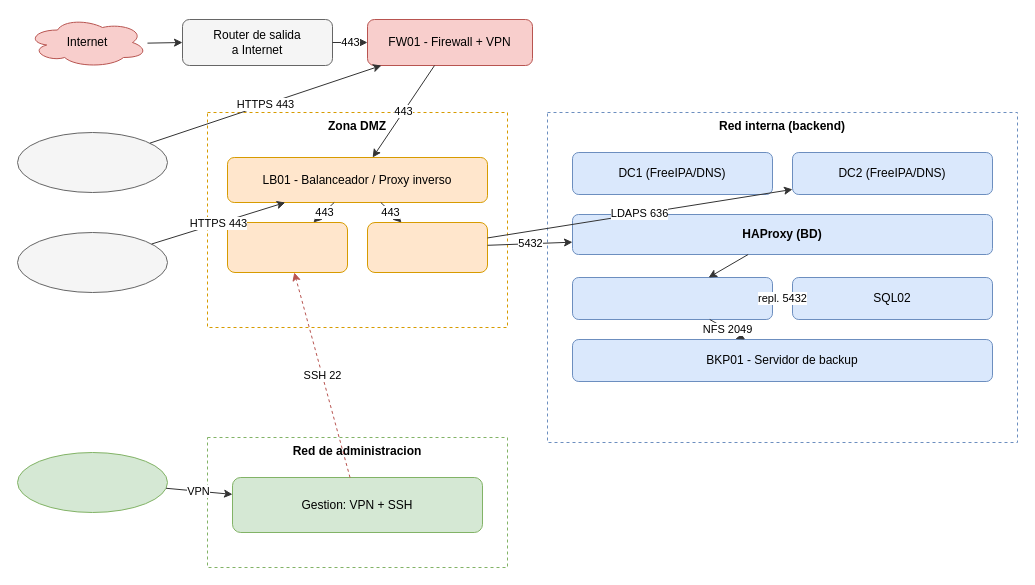
Image size: 1035x585. Some labels were removed from this diagram. The centre of each missing label's shape, as x and y in pixels:
"Administracion / DevOps" goes at (92,482).
"SQL01" goes at (672,298).
"Usuarios Externos" goes at (92,162).
"Usuarios Internos" goes at (92,262).
"WEB01" goes at (287,247).
"WEB02" goes at (427,247).
